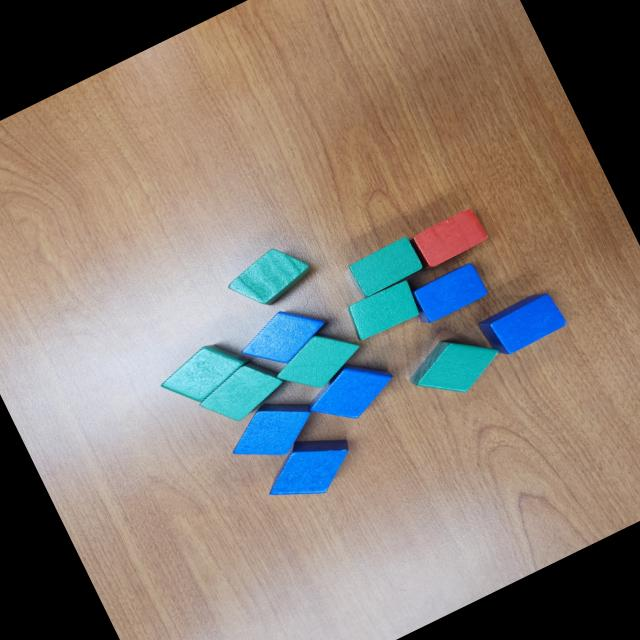blue: (254, 421, 362, 514), (230, 293, 340, 383), (217, 385, 325, 476), (297, 346, 403, 435), (473, 285, 570, 362), (405, 260, 490, 328)
green: (398, 319, 507, 412), (266, 318, 370, 404), (218, 235, 322, 319), (154, 330, 258, 414), (191, 349, 292, 434), (341, 276, 425, 346), (346, 233, 426, 300)
red: (411, 205, 490, 270)
